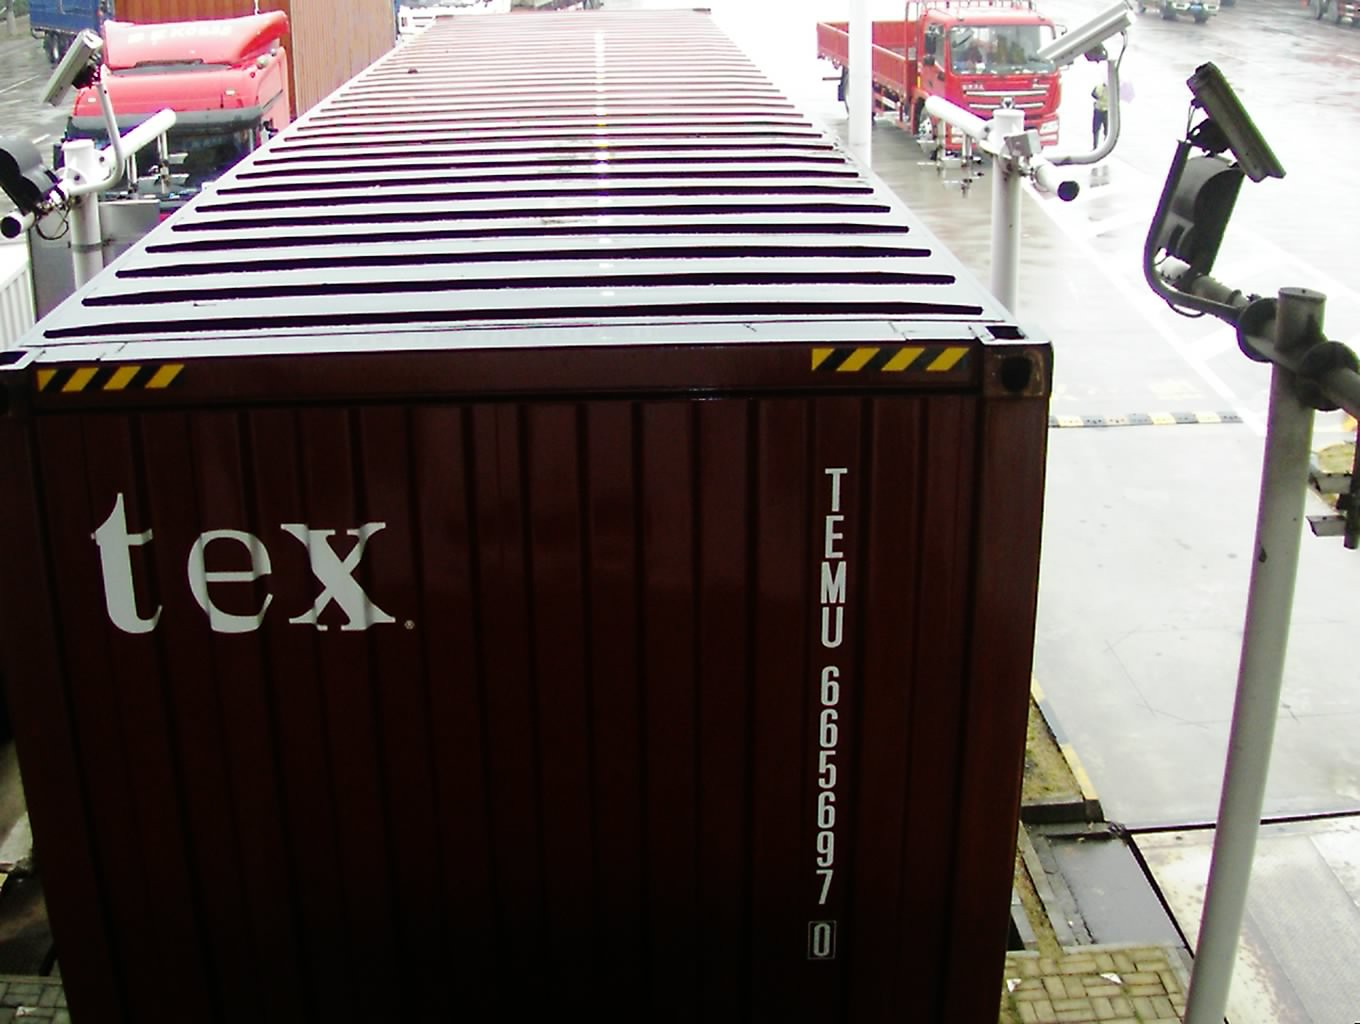words: (797, 459, 854, 967)
